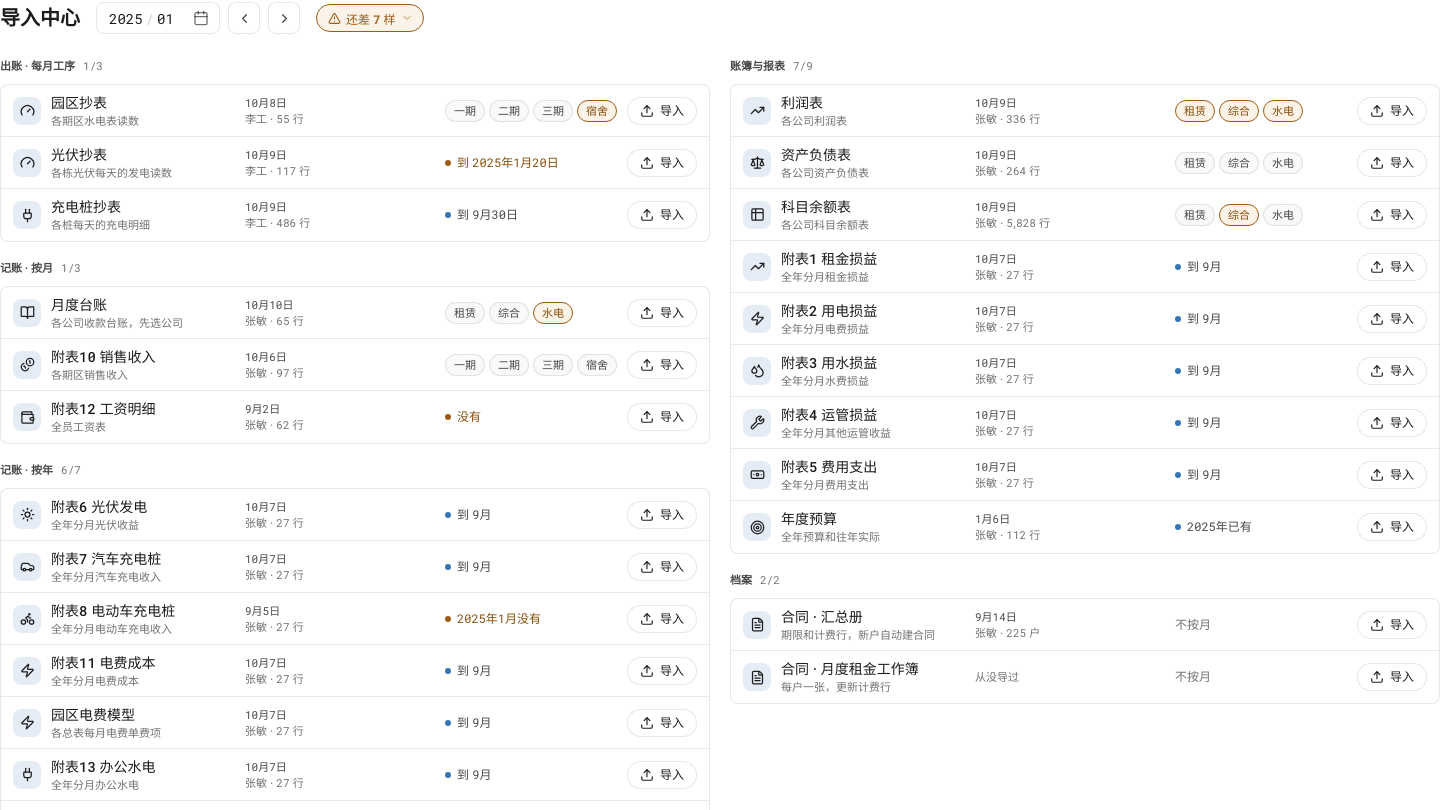
Test: 导入中心 · 清单(ix-v2-main) › 面板:几家全缺写「N 家都没有」;选的不是今年带年;光伏抄表录到的日子早于月底写「只到 X」
Click the button with class "fac" at (370, 18), box [316, 4, 424, 32]
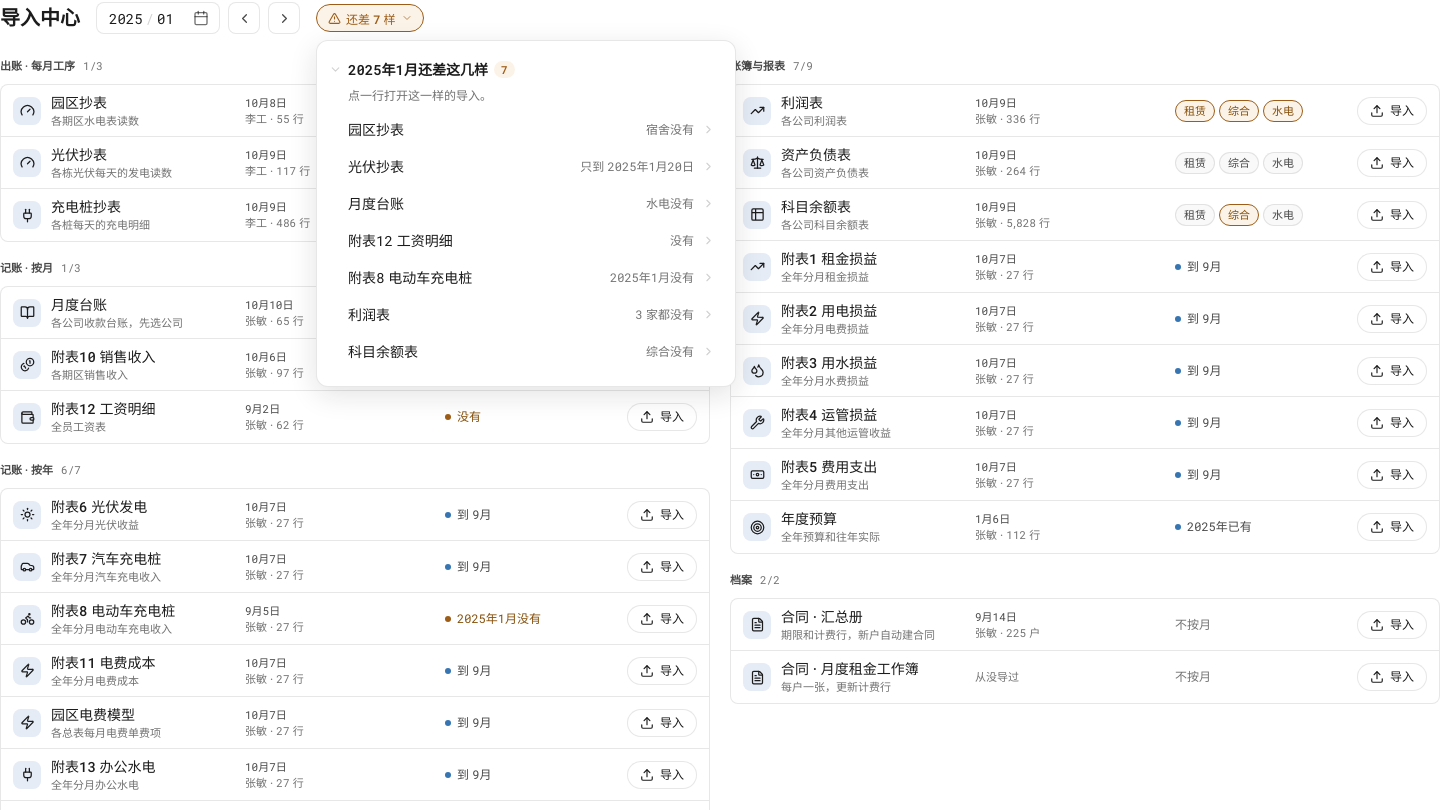
Check: the text "2025年1月还差这几样" is shown, box [348, 59, 488, 79]
Check: the text "3 家都没有" is shown, box [635, 306, 694, 324]
Check: the text "只到 2025年1月20日" is shown, box [580, 158, 694, 176]
